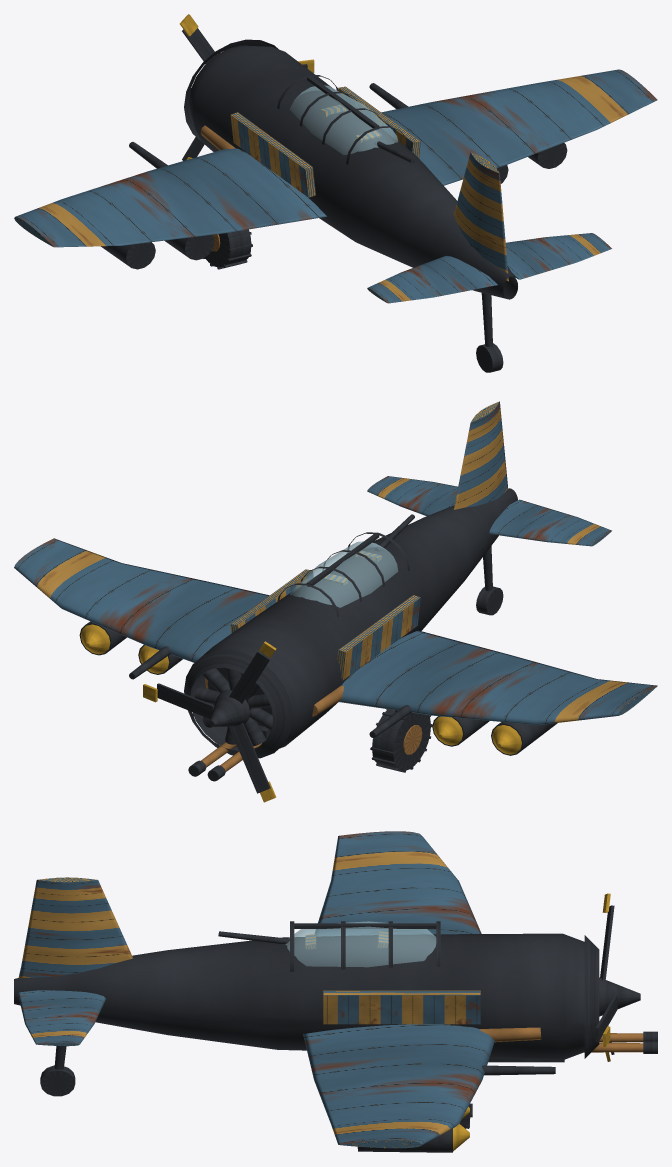
The model's file is scrapyard_attacker.glb.
3 views of the same model, one above another, from view 1: azimuth 30°, elevation 25°; view 2: azimuth 150°, elevation 25°; view 3: azimuth 270°, elevation 25° (orthographic). The views are drawn at different scales.
Visible parts, largest first — view 1: airframe, cockpit_glass, gear_L, propeller_L, gear_tail; view 2: airframe, propeller_L, cockpit_glass, gear_L, gear_tail; view 3: airframe, cockpit_glass, propeller_L, gear_tail.
Boxes of the visible parts, <box> form: airframe: <box>14,39,657,303</box>; cockpit_glass: <box>290,85,397,154</box>; gear_L: <box>203,229,252,269</box>; propeller_L: <box>179,14,314,160</box>; gear_tail: <box>476,293,503,372</box>; airframe: <box>14,401,657,781</box>; propeller_L: <box>143,641,276,802</box>; cockpit_glass: <box>290,541,397,607</box>; gear_L: <box>370,709,432,772</box>; gear_tail: <box>476,546,503,615</box>; airframe: <box>14,831,657,1152</box>; cockpit_glass: <box>285,921,436,967</box>; propeller_L: <box>595,893,640,1061</box>; gear_tail: <box>40,1046,75,1096</box>.
Bounding box in the file's own units: 11.19 × 3.64 × 9.86.
Materials: 3 (1 with a texture image).
